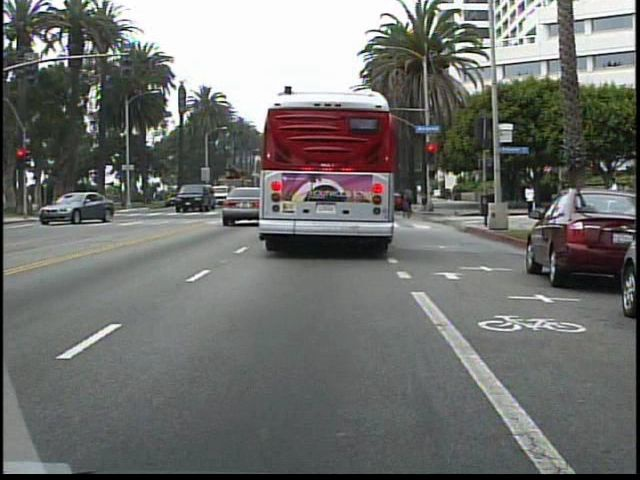person: (607, 174, 624, 221), (398, 182, 419, 217), (522, 182, 537, 213)
